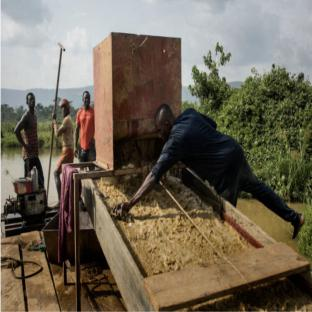Person: (17, 84, 45, 187), (52, 97, 74, 162)
ProcessingEquipment: (62, 33, 312, 311), (6, 164, 47, 227)
